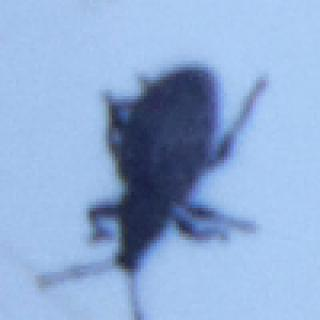bvw: (35, 61, 266, 320)
